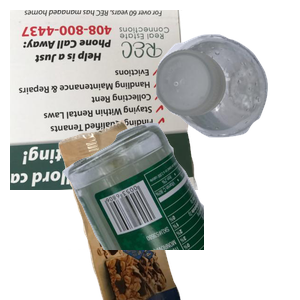glass: (60, 120, 300, 300)
paper: (10, 10, 201, 190)
plastic: (153, 31, 300, 161)
trash: (56, 120, 229, 300)
